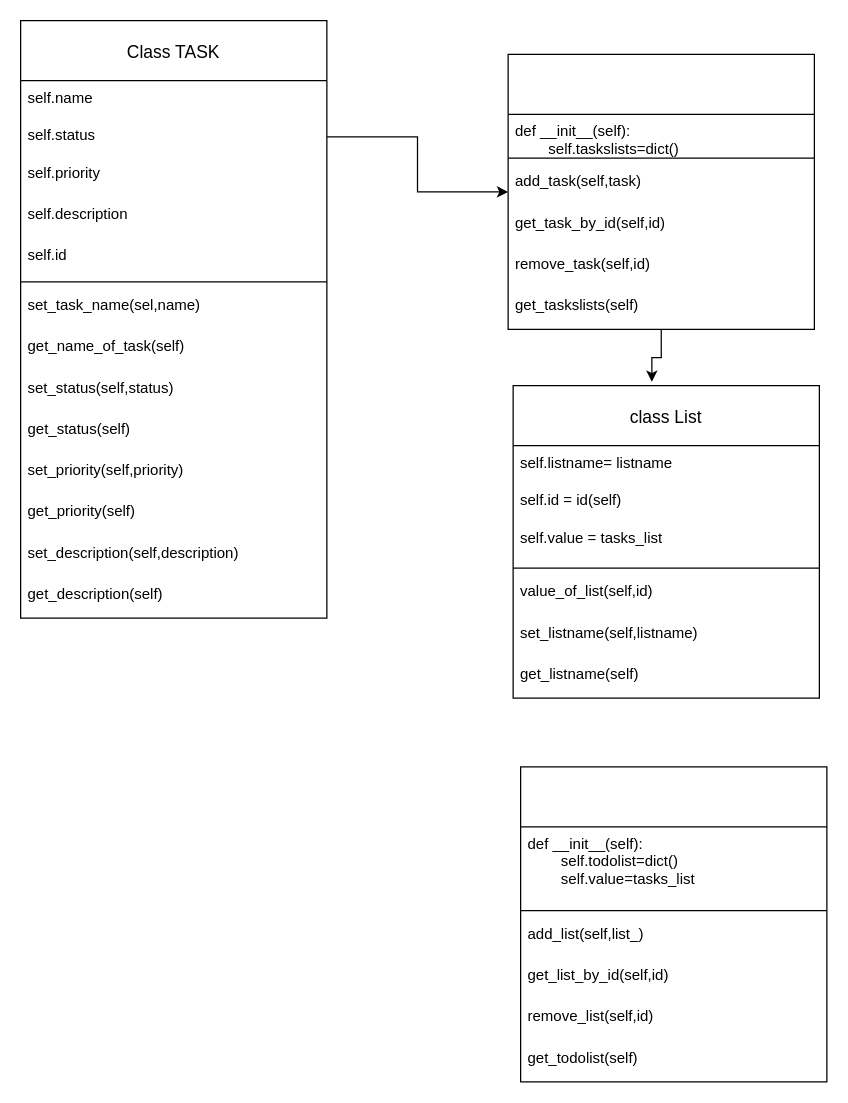
Image size: 848x1103. Some labels were removed from this diagram. The shapes that lost their labels are listed below. From the top down, each one's box as (x1, y1, x2, y2) in pixels, then its label:
(507, 53, 814, 329): class TaskList
(519, 766, 827, 1082): class TaskLists
